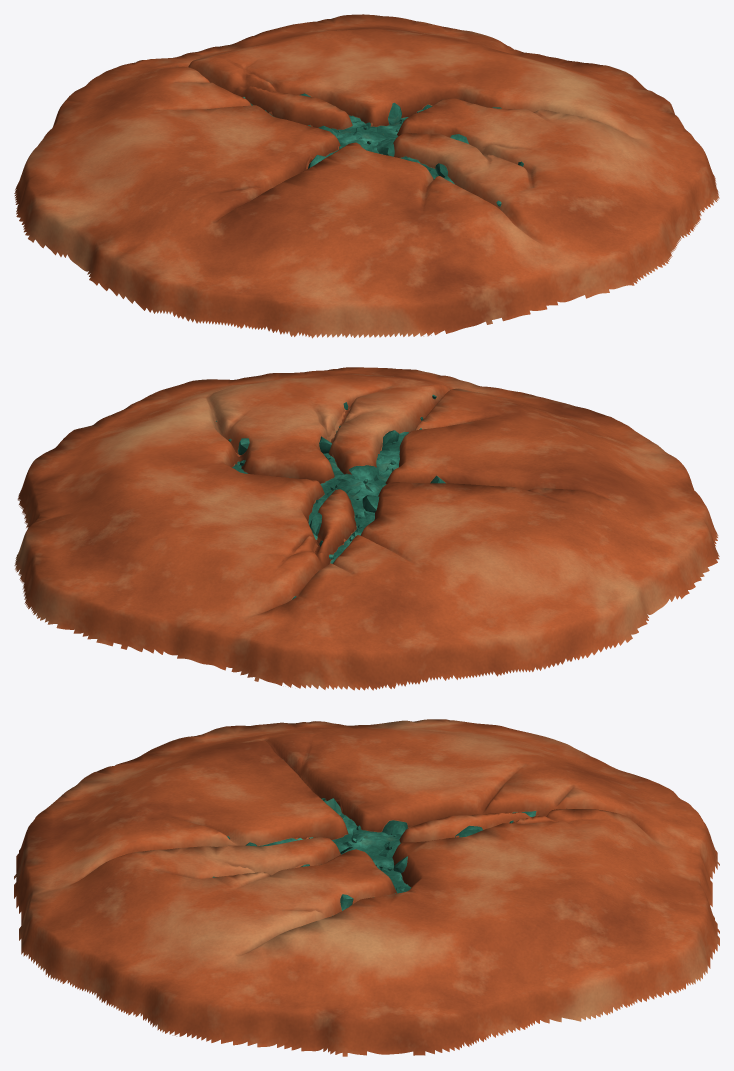
File: Deposit_Copper.fbx
3 renders of one model, top to bottom at view 1: azimuth 30°, elevation 25°; view 2: azimuth 150°, elevation 25°; view 3: azimuth 270°, elevation 25°, orthographic. The views are drawn at different scales.
Parts seen in each view (by area): view 1: Body, Ore; view 2: Body, Ore; view 3: Body, Ore.
Boxes of the visible parts, box(x1,y1,x2,y2) form: Body: box(14, 14, 719, 338); Ore: box(243, 93, 523, 206); Body: box(14, 367, 719, 690); Ore: box(215, 394, 445, 599); Body: box(14, 719, 719, 1056); Ore: box(212, 798, 536, 915).
Bounding box in the file's own units: 6.08 × 0.6357 × 5.8.
2 materials, 2 textured.
